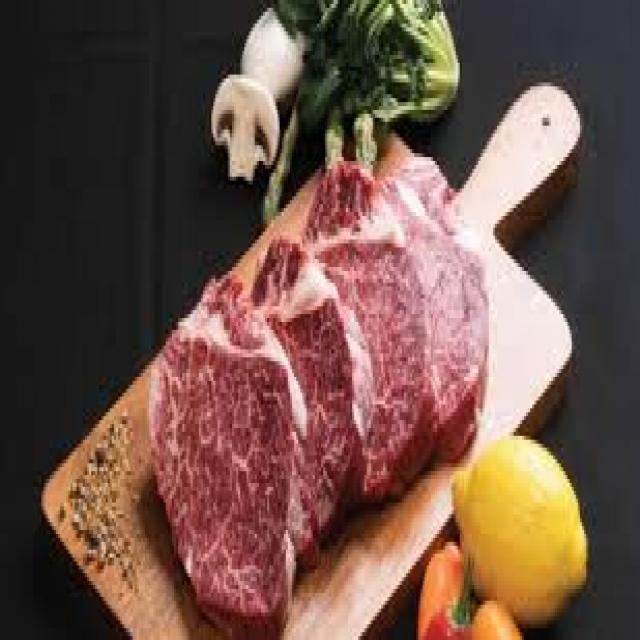beef: (149, 283, 307, 636)
